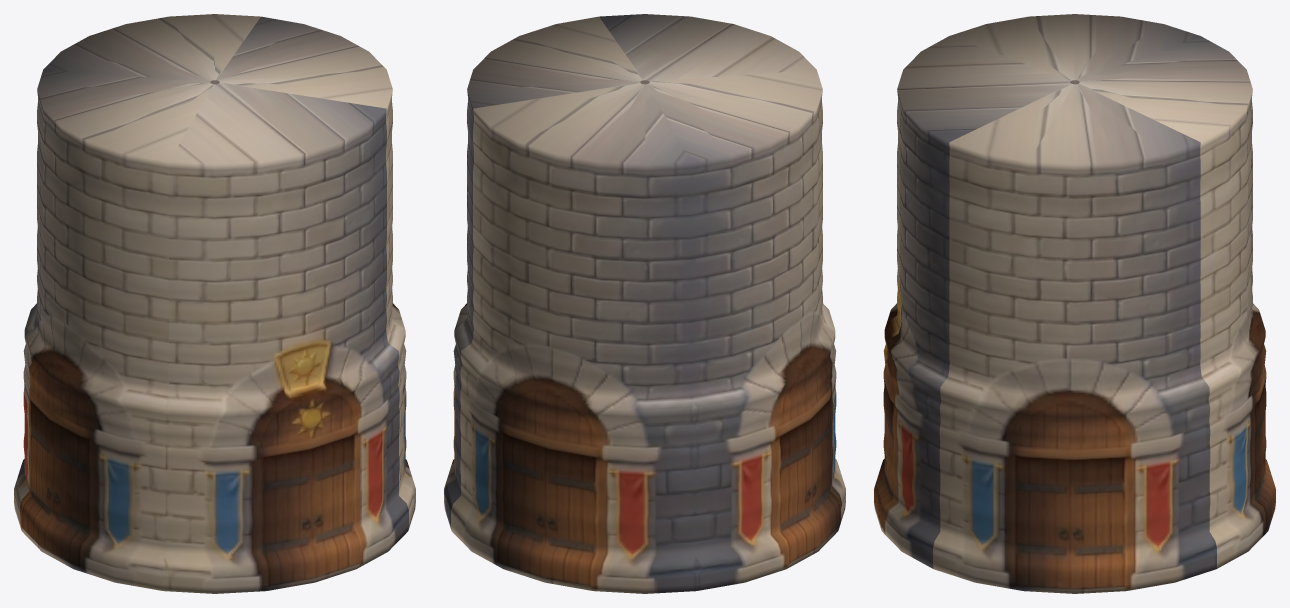
The model's file is town-gate.glb.
3 views of the same model, side by side, from view 1: azimuth 30°, elevation 25°; view 2: azimuth 150°, elevation 25°; view 3: azimuth 270°, elevation 25° (orthographic).
Parts seen in each view (by area): view 1: piece; view 2: piece; view 3: piece.
Boxes of the visible parts, left/top/right/bottom form: piece: left=14, top=14, right=415, bottom=593; piece: left=444, top=14, right=845, bottom=593; piece: left=874, top=14, right=1275, bottom=593.
Bounding box in the file's own units: 5.78 × 7 × 5.78.
1 material, 1 textured.
